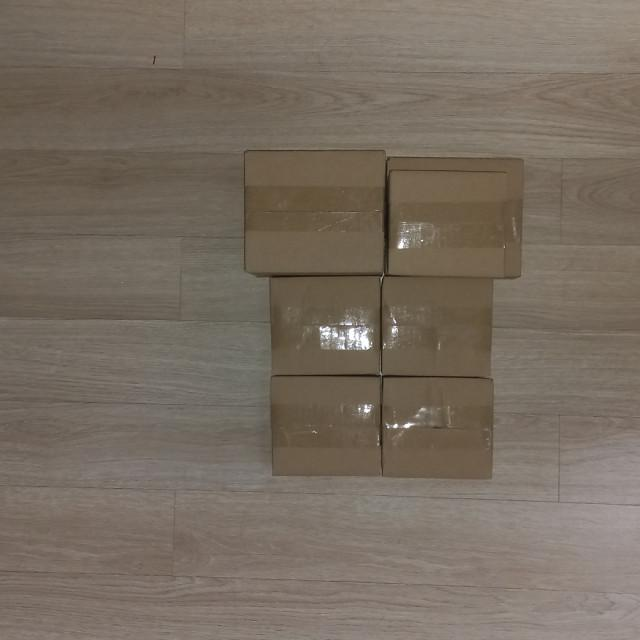box: (239, 144, 390, 278), (387, 163, 512, 285), (380, 374, 498, 482), (267, 374, 383, 479), (265, 274, 383, 377), (380, 276, 494, 378)
